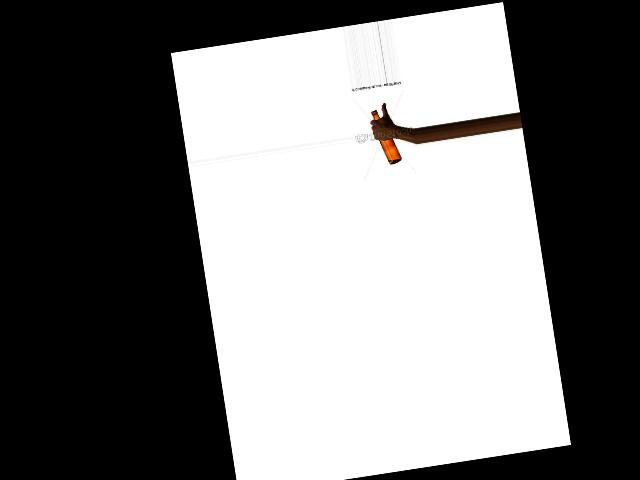beer: (371, 107, 402, 166)
